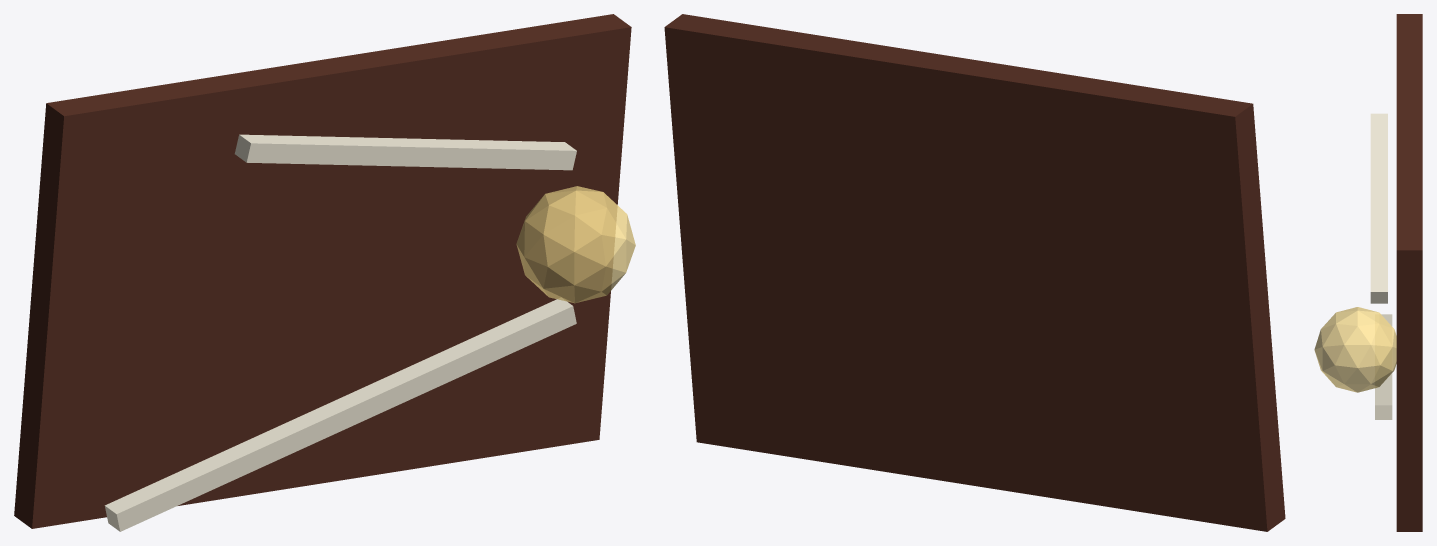
The model's file is 02_world_prop_polish.glb.
3 renders of one model, left to right at view 1: azimuth 30°, elevation 25°; view 2: azimuth 150°, elevation 25°; view 3: azimuth 270°, elevation 25°, orthographic. The views are drawn at different scales.
Visible parts, largest first — view 1: object_overlay_plate, edge_wear_a, glow_socket, edge_wear_b; view 2: object_overlay_plate; view 3: object_overlay_plate, glow_socket, edge_wear_b, edge_wear_a.
Boxes of the visible parts, x1,y1,x2,y2 form: object_overlay_plate: (14,14,631,528); edge_wear_a: (104,298,576,531); glow_socket: (516,186,635,303); edge_wear_b: (234,134,576,170); object_overlay_plate: (664,14,1285,531); object_overlay_plate: (1396,14,1422,531); glow_socket: (1314,307,1396,392); edge_wear_b: (1370,113,1387,303); edge_wear_a: (1375,314,1392,419).
Size of the model in its own units: 1.16 by 0.8384 by 0.25.
